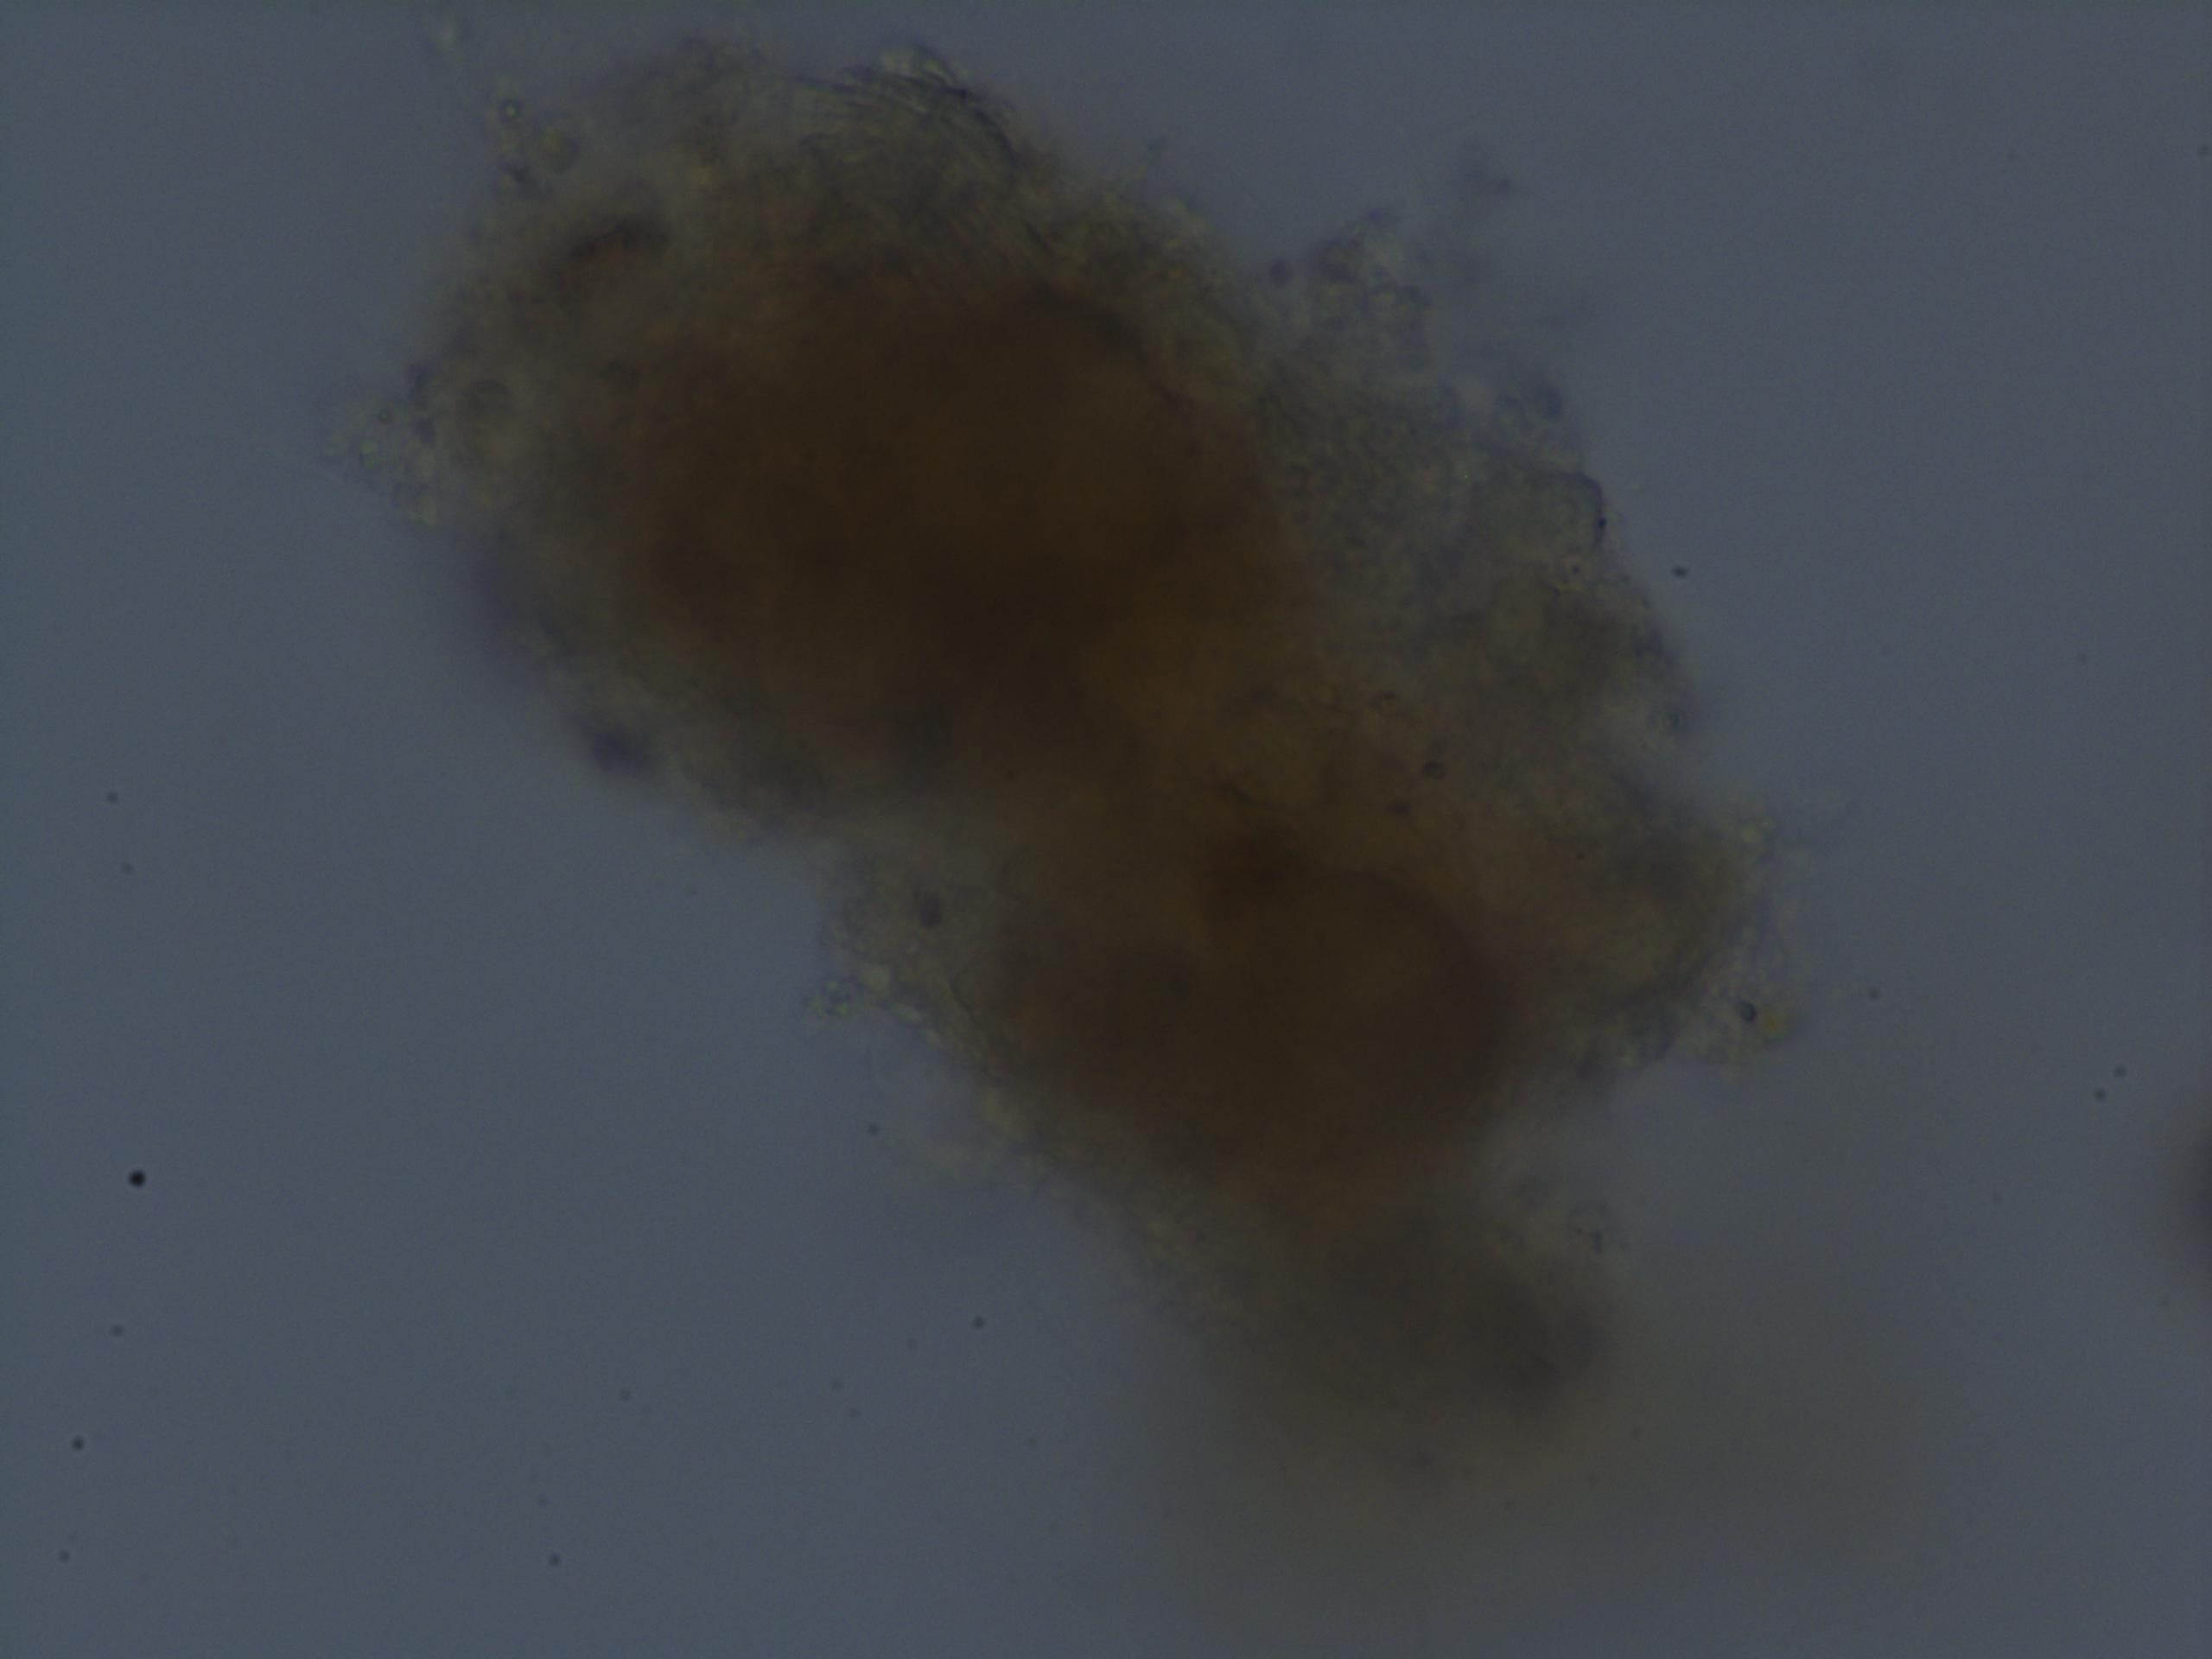spherical_floc: (380, 38, 1771, 1445)
